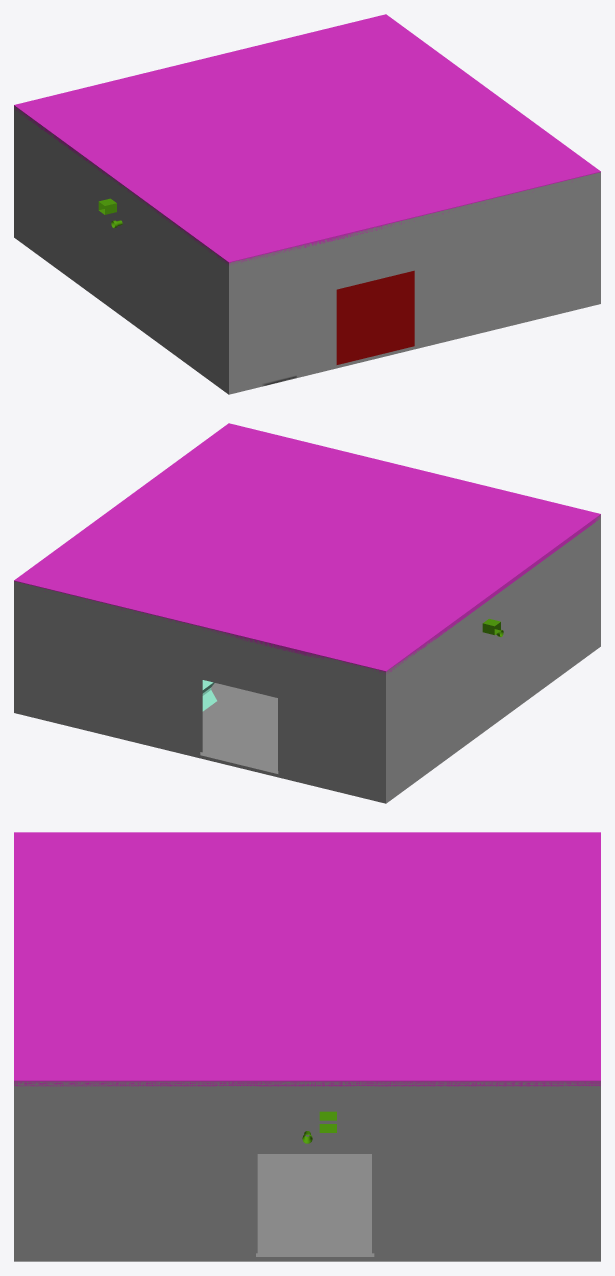
The model's file is RoomExport.FBX.
The picture shows the model from 3 angles, top to bottom: view 1: azimuth 30°, elevation 25°; view 2: azimuth 150°, elevation 25°; view 3: azimuth 270°, elevation 25°; orthographic projection. The views are drawn at different scales.
Parts seen in each view (by area): view 1: Roof, Room; view 2: Roof, Room; view 3: Roof, Room.
Boxes of the visible parts, left/top/right/bottom form: Roof: left=14, top=14, right=600, bottom=265; Room: left=14, top=106, right=600, bottom=394; Roof: left=14, top=423, right=600, bottom=674; Room: left=14, top=515, right=600, bottom=803; Roof: left=14, top=832, right=600, bottom=1086; Room: left=14, top=1081, right=600, bottom=1261.
Size of the model in its own units: 962 by 306 by 900.
